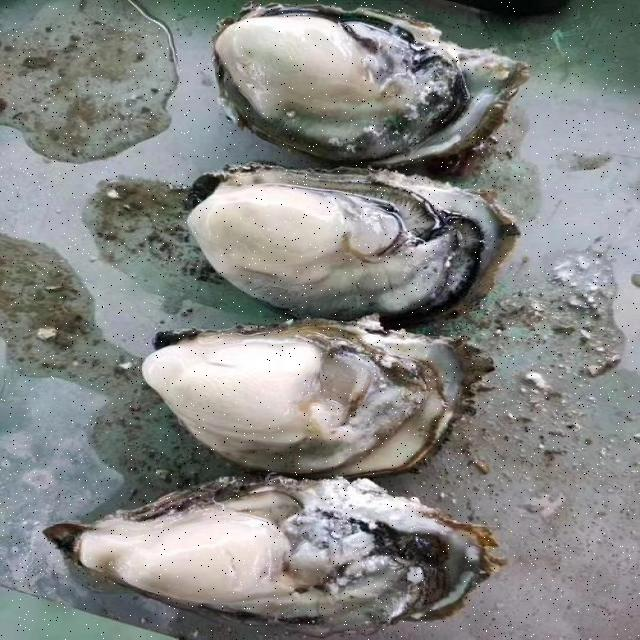Oyster-Open: (44, 476, 504, 634), (145, 319, 485, 475), (188, 165, 515, 319), (214, 6, 528, 166)
